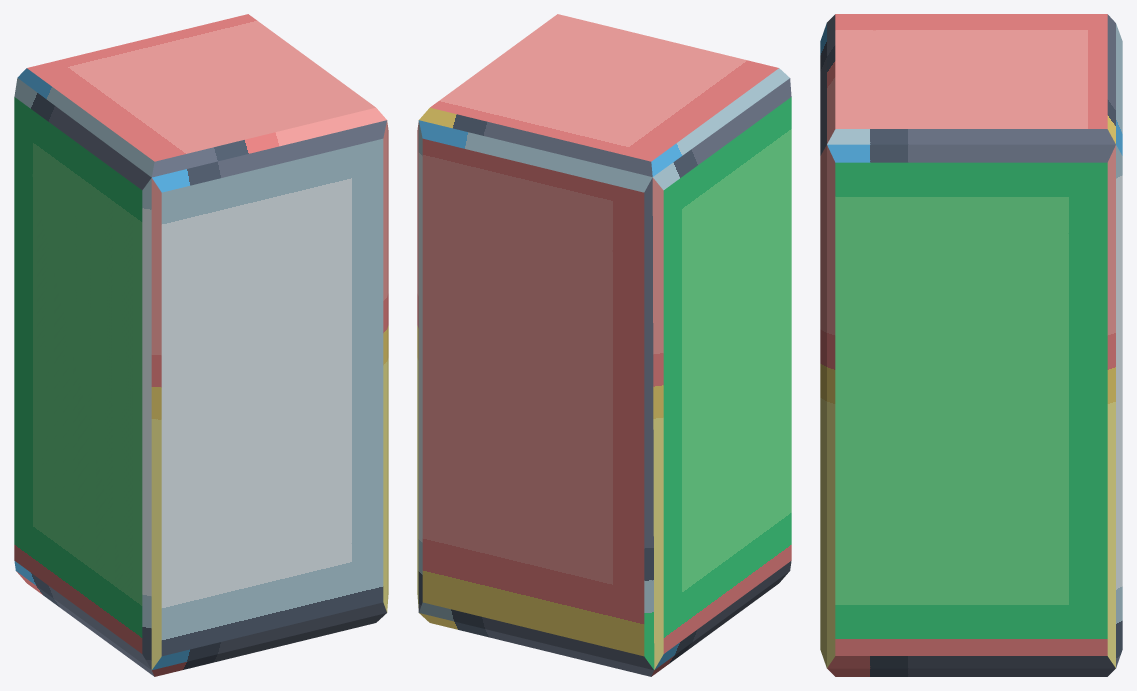
File: roundedcuboid_buildingblock_village.obj
3 renders of one model, left to right at view 1: azimuth 30°, elevation 25°; view 2: azimuth 150°, elevation 25°; view 3: azimuth 270°, elevation 25°, orthographic. The views are drawn at different scales.
Visible parts, largest first — view 1: cube; view 2: cube; view 3: cube.
Part boxes in pixels (x1,y1,x2,y2): cube: (14,14,388,676); cube: (417,14,791,676); cube: (820,14,1122,676).
Size of the model in its own units: 1 by 2 by 1.
